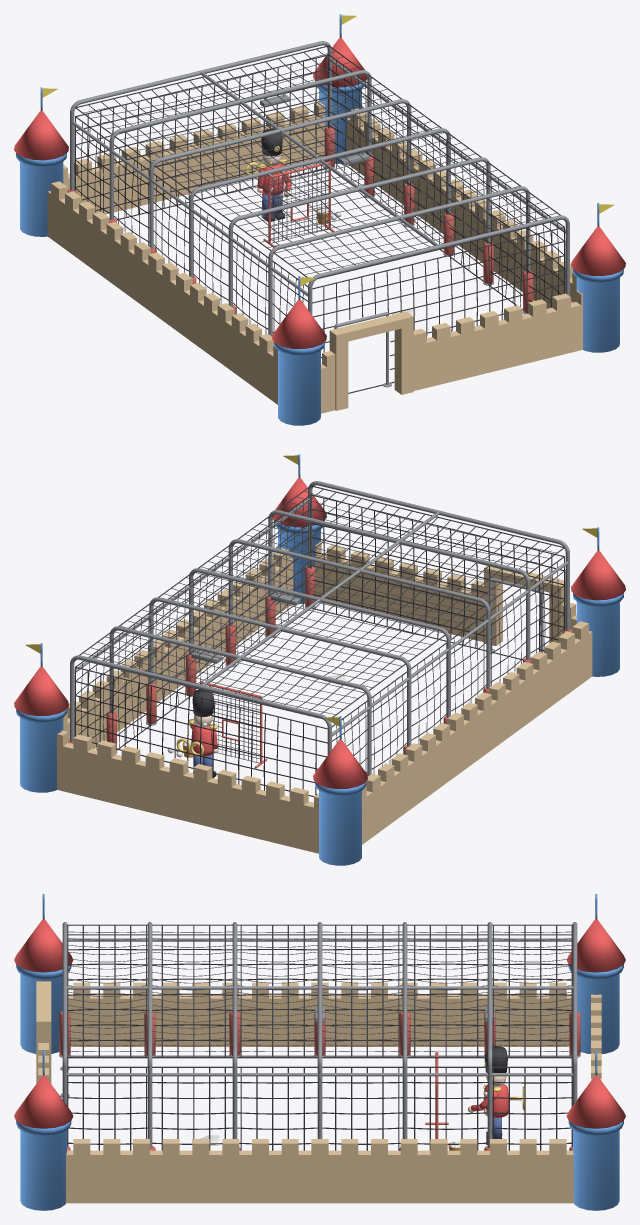
File: ToySoldierCage.fbx
The picture shows the model from 3 angles, top to bottom: view 1: azimuth 30°, elevation 25°; view 2: azimuth 150°, elevation 25°; view 3: azimuth 270°, elevation 25°; orthographic projection. The views are drawn at different scales.
Parts seen in each view (by area): view 1: FortWalls, FortCageFrame, FortNetRoof, FortTowers, FortRoofs, FortNetRight, FortNetFront, FortNetLeft, FortNetBack, FortCagePads, FortScreenNet, FortScreenFrame (+1 smaller); view 2: FortWalls, FortCageFrame, FortNetRoof, FortTowers, FortRoofs, FortNetRight, FortNetBack, FortNetLeft, FortNetFront, FortCagePads, FortScreenNet, SoldierCoat; view 3: FortWalls, FortNetRoof, FortCageFrame, FortTowers, FortNetRight, FortRoofs, FortNetLeft, FortCagePads, SoldierCoat, SoldierHat.
Part boxes in pixels (<box>): FortWalls: <box>47,101,582,413</box>; FortCageFrame: <box>70,41,569,387</box>; FortNetRoof: <box>75,45,560,278</box>; FortTowers: <box>16,14,623,425</box>; FortRoofs: <box>14,37,625,348</box>; FortNetRight: <box>329,54,565,313</box>; FortNetFront: <box>75,54,329,220</box>; FortNetLeft: <box>74,116,307,333</box>; FortNetBack: <box>312,227,564,393</box>; FortCagePads: <box>67,125,572,336</box>; FortScreenNet: <box>271,166,328,243</box>; FortScreenFrame: <box>263,161,334,247</box>; FortWalls: <box>57,541,592,853</box>; FortCageFrame: <box>70,481,569,775</box>; FortNetRoof: <box>79,485,564,718</box>; FortTowers: <box>16,454,623,865</box>; FortRoofs: <box>14,477,625,788</box>; FortNetRight: <box>74,494,310,750</box>; FortNetBack: <box>310,494,564,660</box>; FortNetLeft: <box>332,556,565,773</box>; FortNetFront: <box>75,667,327,796</box>; FortCagePads: <box>68,565,572,776</box>; FortScreenNet: <box>209,686,259,763</box>; SoldierCoat: <box>190,724,217,756</box>; FortWalls: <box>36,981,601,1203</box>; FortNetRoof: <box>67,924,572,1058</box>; FortCageFrame: <box>59,922,580,1148</box>; FortTowers: <box>16,894,623,1210</box>; FortNetRight: <box>67,1066,572,1150</box>; FortRoofs: <box>14,919,625,1128</box>; FortNetLeft: <box>68,934,571,1056</box>; FortCagePads: <box>59,1011,580,1150</box>; SoldierCoat: <box>471,1084,508,1117</box>; SoldierHat: <box>484,1046,507,1144</box>.
Size of the model in its own units: 1010 by 390 by 1440.
